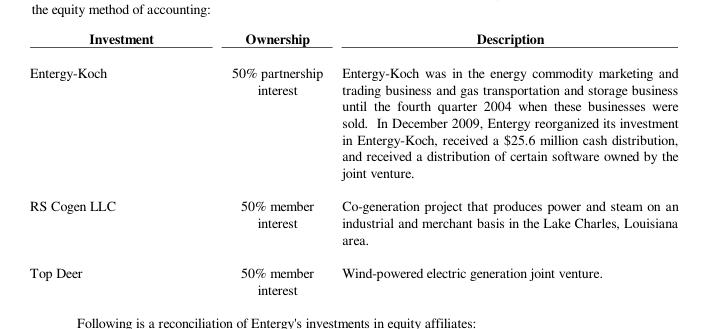table: (29, 28, 677, 297)
table column: (331, 28, 677, 297), (29, 28, 191, 297), (191, 28, 331, 297)
table column header: (29, 28, 677, 55)
table row: (29, 55, 677, 188), (29, 188, 677, 254), (29, 254, 677, 297), (29, 28, 677, 55)
